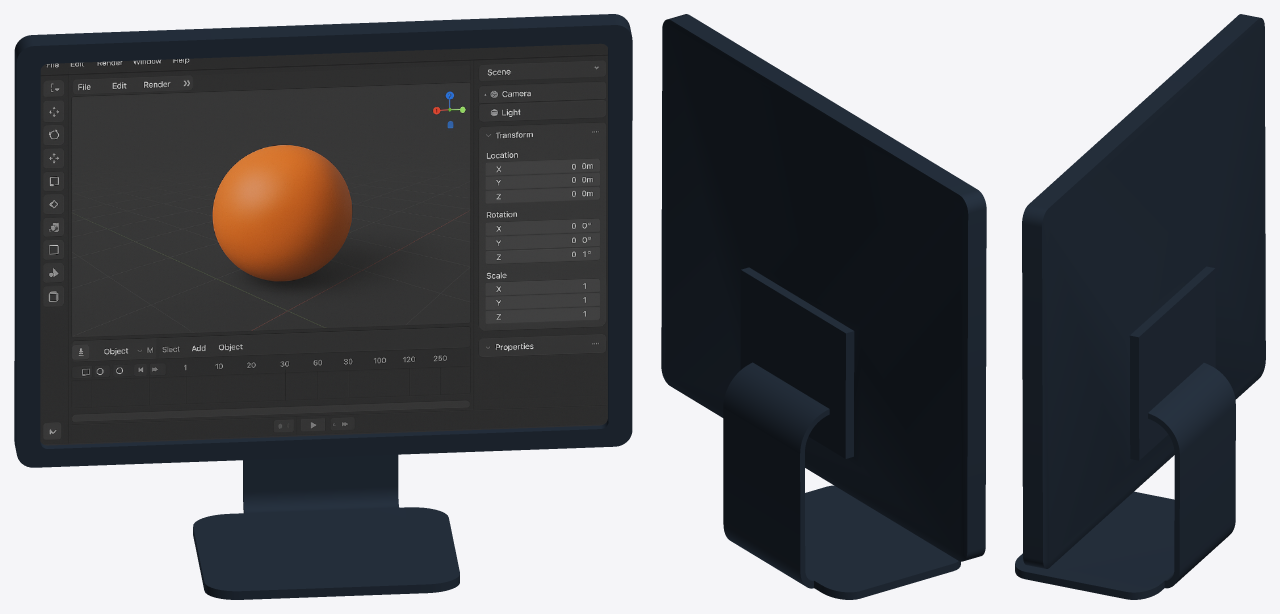
Rendered from sene.glb.
3 views of the same model, side by side, from view 1: azimuth 30°, elevation 25°; view 2: azimuth 150°, elevation 25°; view 3: azimuth 270°, elevation 25° (orthographic). The views are drawn at different scales.
Parts seen in each view (by area): view 1: Monitor; view 2: Monitor; view 3: Monitor.
Boxes of the visible parts, box(x1,y1,x2,y2) form: Monitor: box(14, 14, 632, 599); Monitor: box(661, 14, 986, 599); Monitor: box(1015, 14, 1265, 599).
Bounding box in the file's own units: 4.45 × 4.45 × 2.3.
2 materials, 1 textured.
